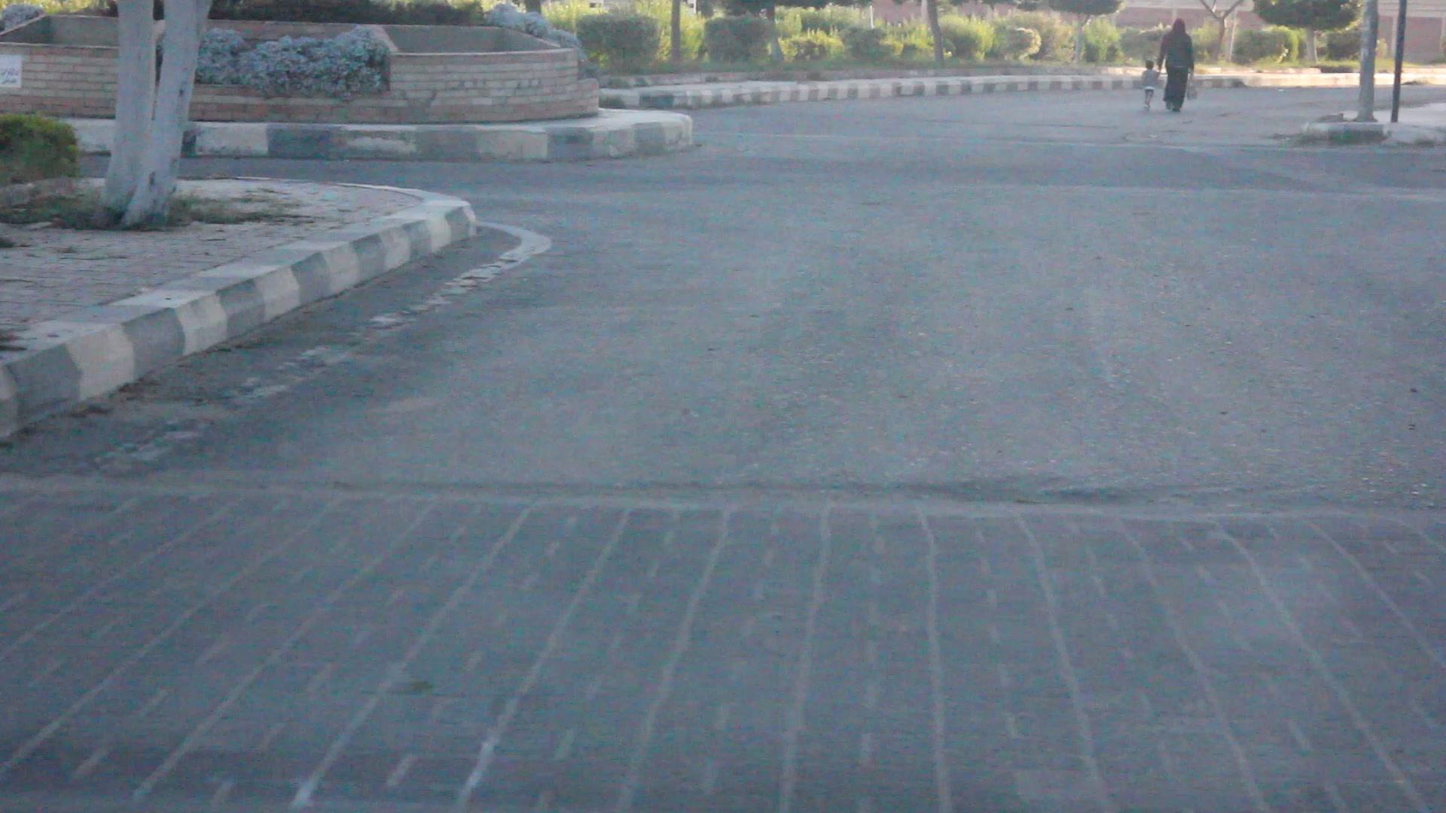Bump: (0, 469, 1445, 812)
